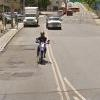Motorcycle: (27, 28, 53, 68)
